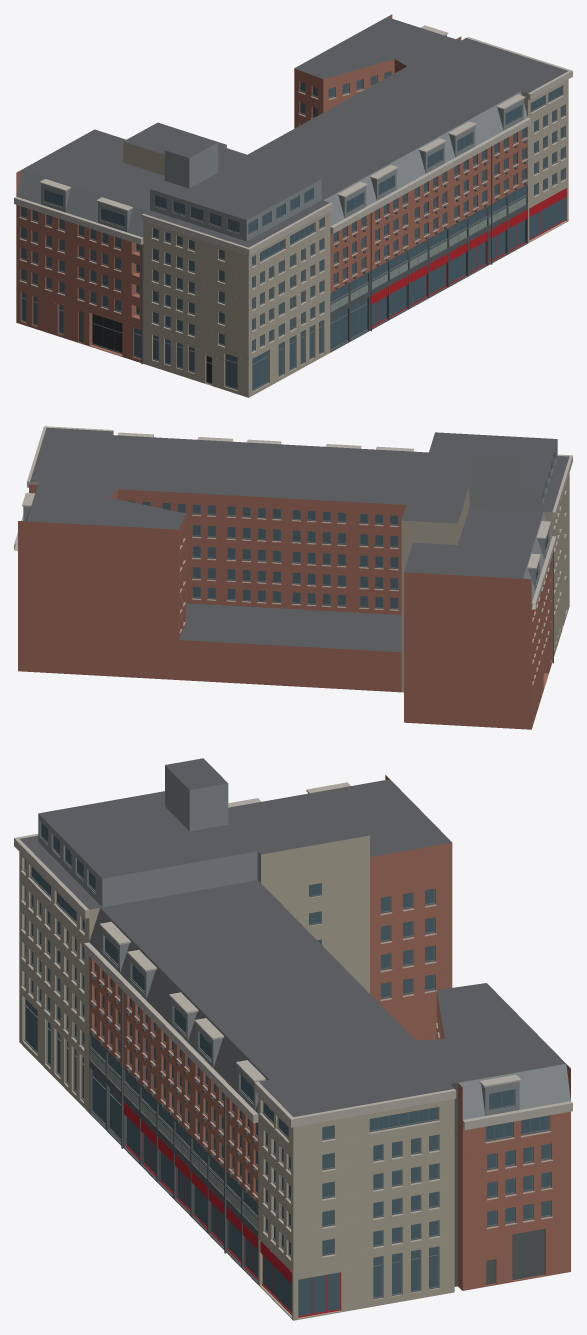
The model's file is kinkerstraat-32.glb.
The picture shows the model from 3 angles, top to bottom: view 1: azimuth 30°, elevation 25°; view 2: azimuth 150°, elevation 25°; view 3: azimuth 270°, elevation 25°; orthographic projection. The views are drawn at different scales.
Visible parts, largest first — view 1: kinkerstraat-32; view 2: kinkerstraat-32; view 3: kinkerstraat-32.
Part boxes in pixels (bbox=[...]): kinkerstraat-32: bbox=[14, 14, 572, 397]; kinkerstraat-32: bbox=[14, 426, 572, 729]; kinkerstraat-32: bbox=[14, 758, 572, 1320].
Size of the model in its own units: 68.58 by 25.2 by 46.68.
